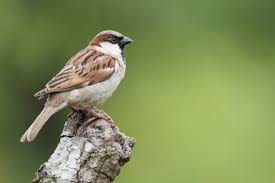hsparrow: (18, 27, 136, 144)
